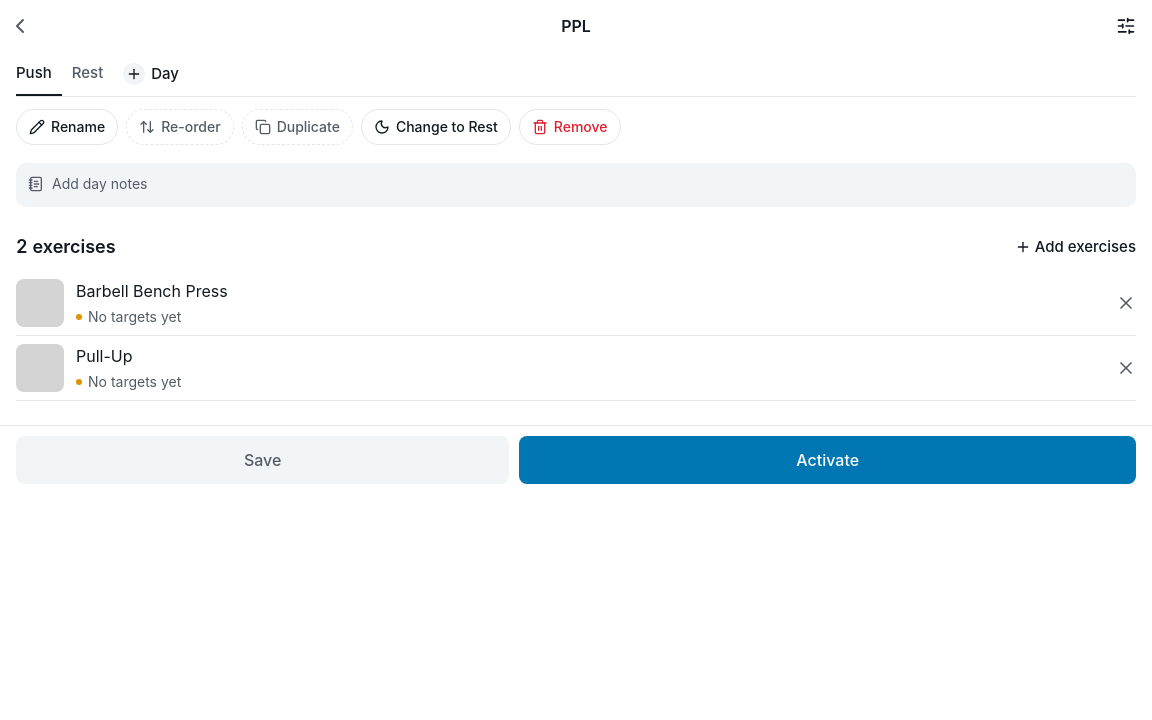
ProgramEditorPage - day actions and exercises › Rename updates the day tab
The width and height of the screenshot is (1152, 720).
Expected: the element showing "Push Rest" is shown, x1=16 y1=52 x2=113 y2=96
Click the button "Rename".
click(67, 127)  # box x1=16 y1=105 x2=118 y2=149
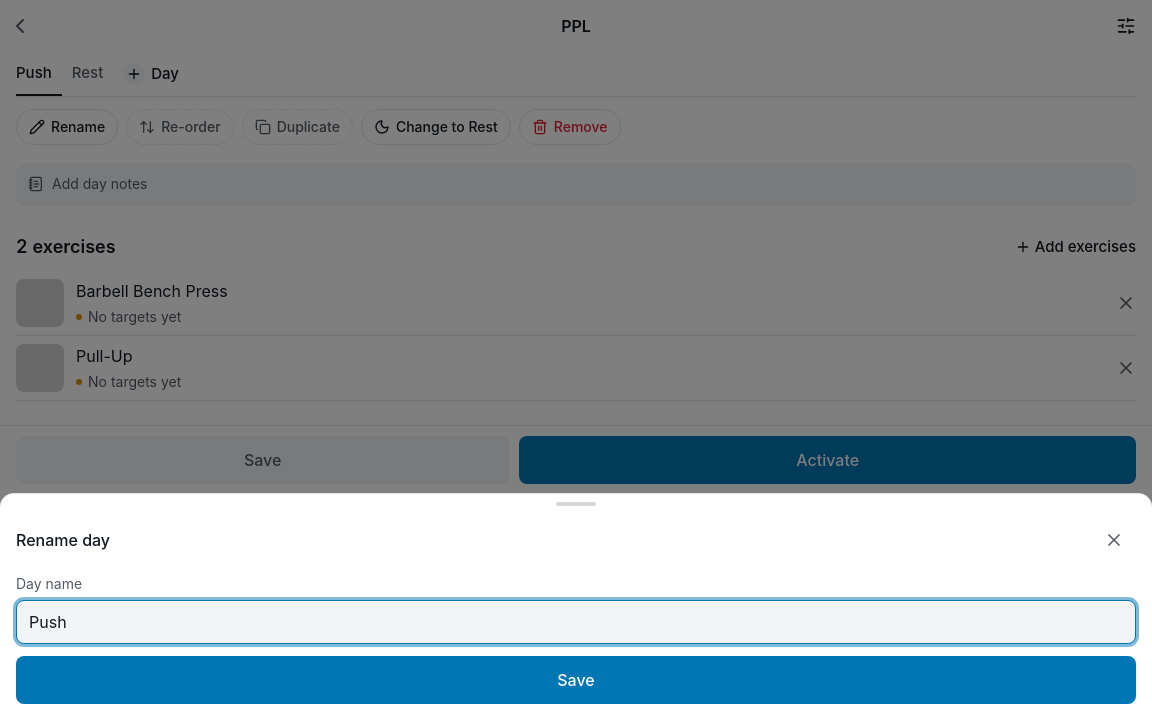
Replace the text in the field labelled "Day name" with "Upper" at [576, 622], box x1=16 y1=600 x2=1136 y2=644
Then press Enter
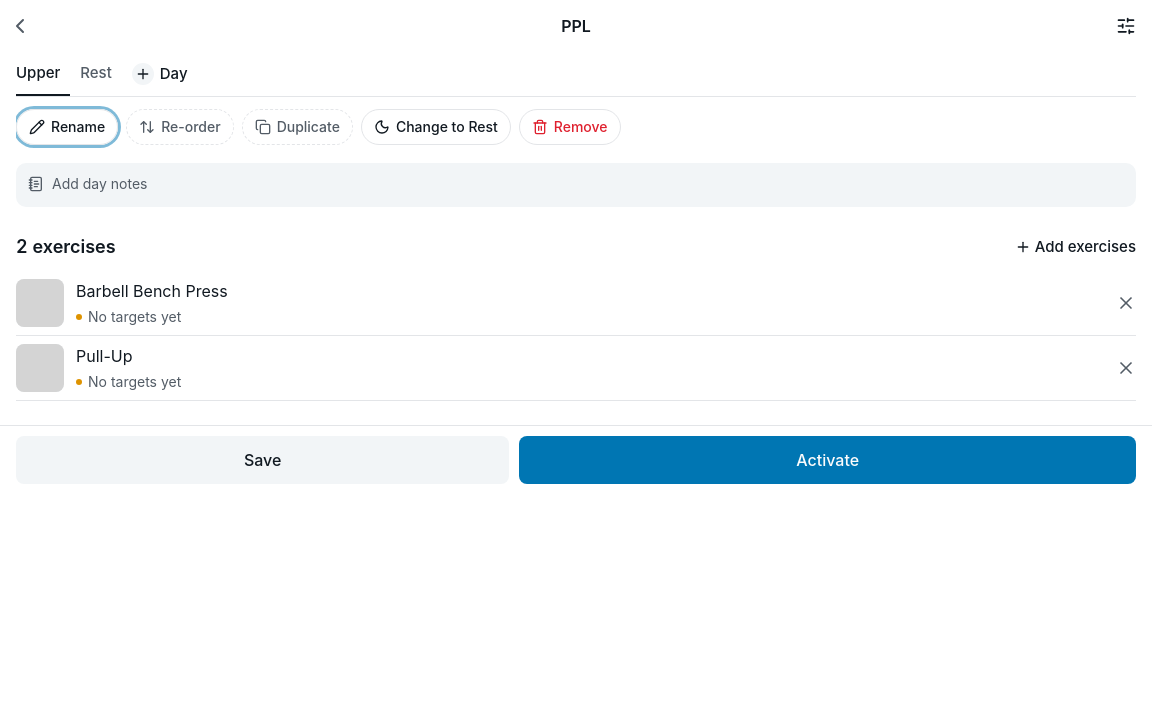
Now the tab "Upper" is shown, box x1=16 y1=52 x2=70 y2=96
